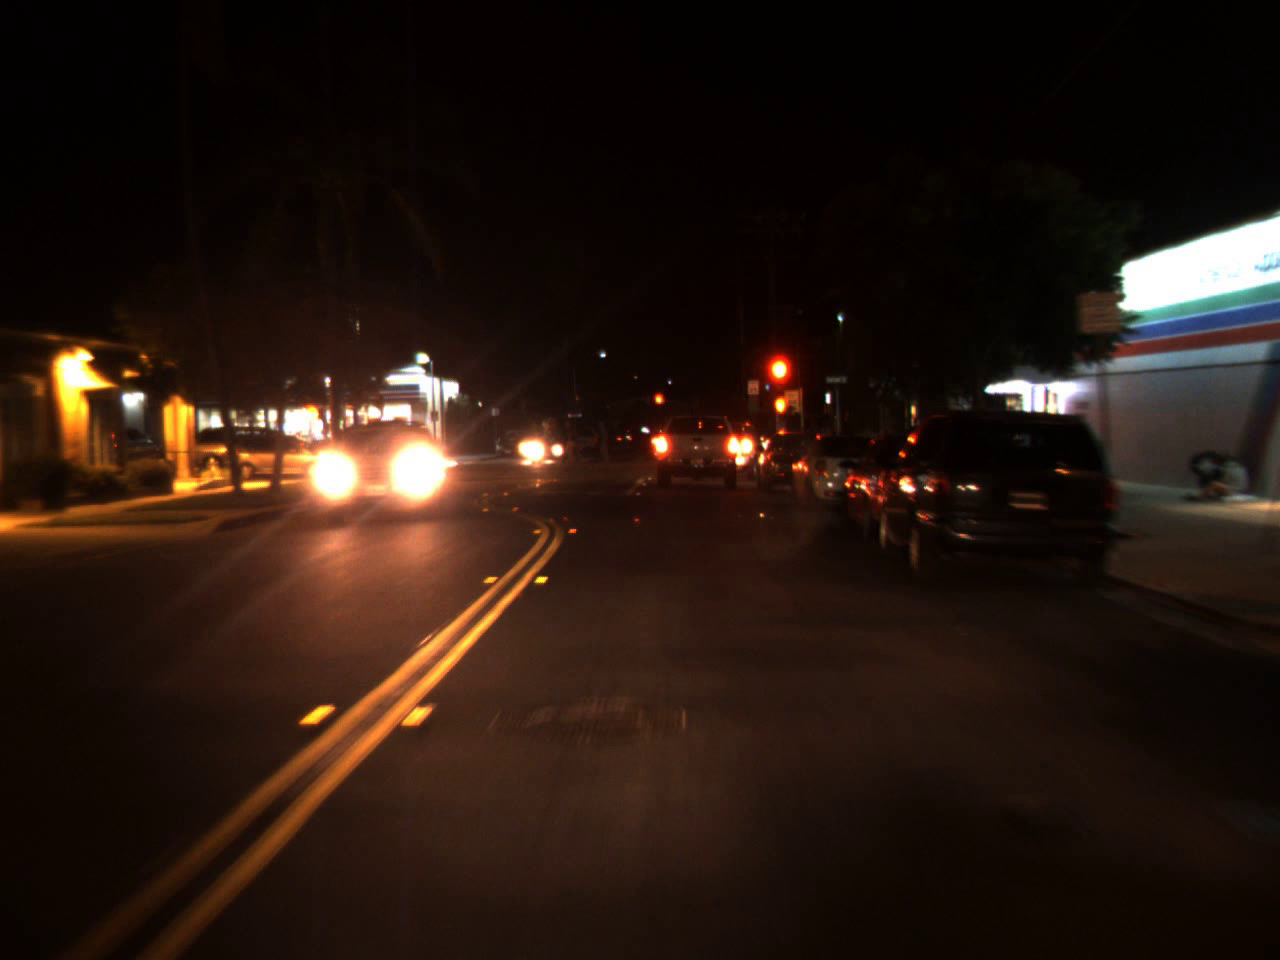stop: (762, 349, 796, 424), (652, 391, 665, 418)
